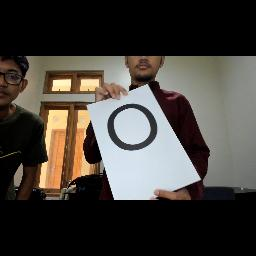o: (105, 101, 161, 153)
